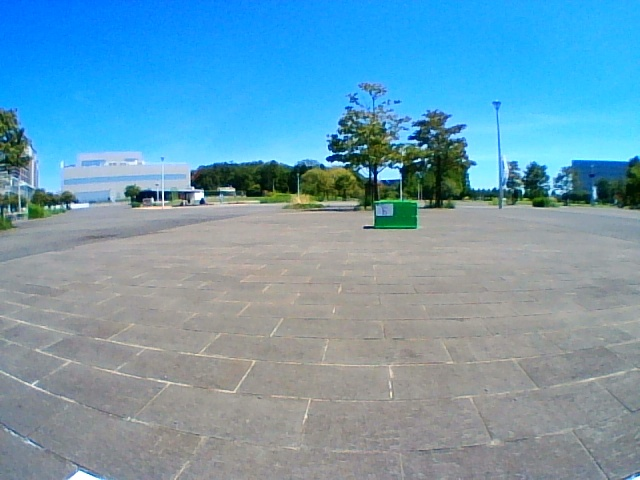green_box: (374, 200, 416, 229)
tag: (376, 204, 392, 215)
